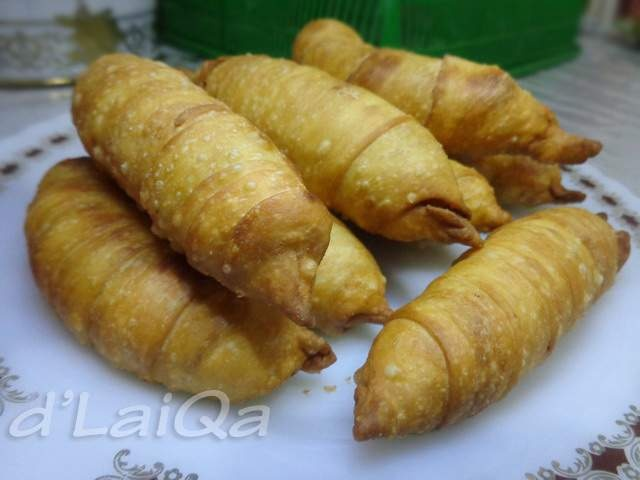pisang_molen: (71, 55, 335, 326), (352, 206, 630, 443), (193, 55, 486, 247)
